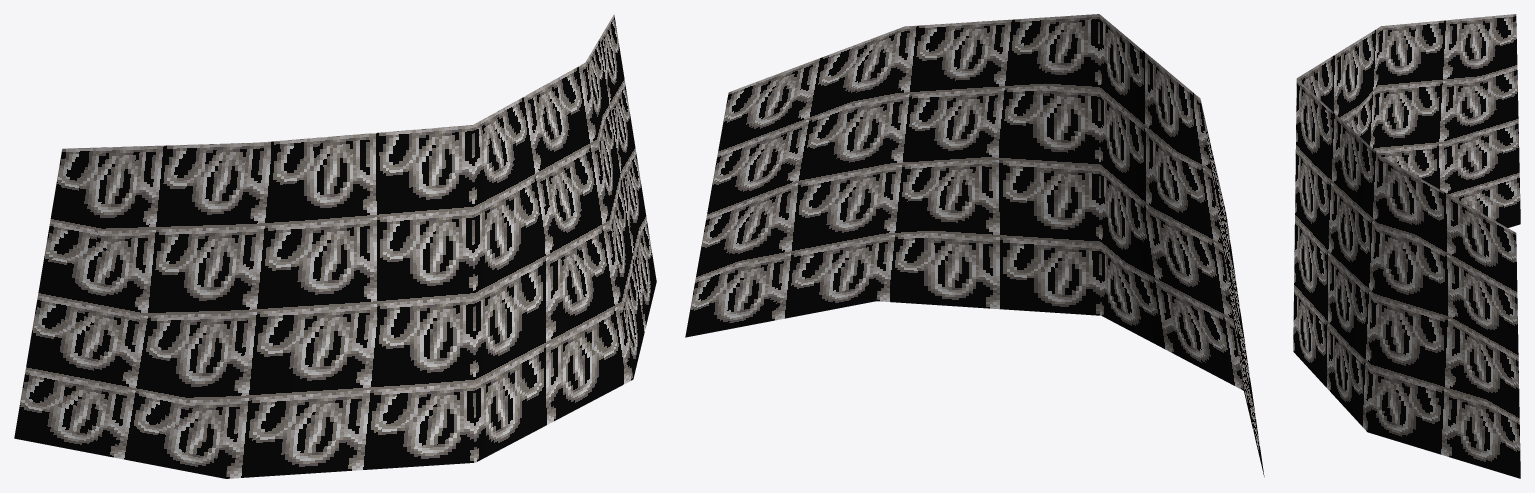
Rendered from 2861head001_c.gltf.
3 views of the same model, side by side, from view 1: azimuth 30°, elevation 25°; view 2: azimuth 150°, elevation 25°; view 3: azimuth 270°, elevation 25° (orthographic). The views are drawn at different scales.
Visible parts, largest first — view 1: 2861head001_c; view 2: 2861head001_c; view 3: 2861head001_c.
Boxes of the visible parts, <box> form: 2861head001_c: <box>14,14,656,478</box>; 2861head001_c: <box>685,14,1264,477</box>; 2861head001_c: <box>1293,14,1520,478</box>.
Size of the model in its own units: 0.7795 by 0.3899 by 0.2944.
1 material, 1 textured.
